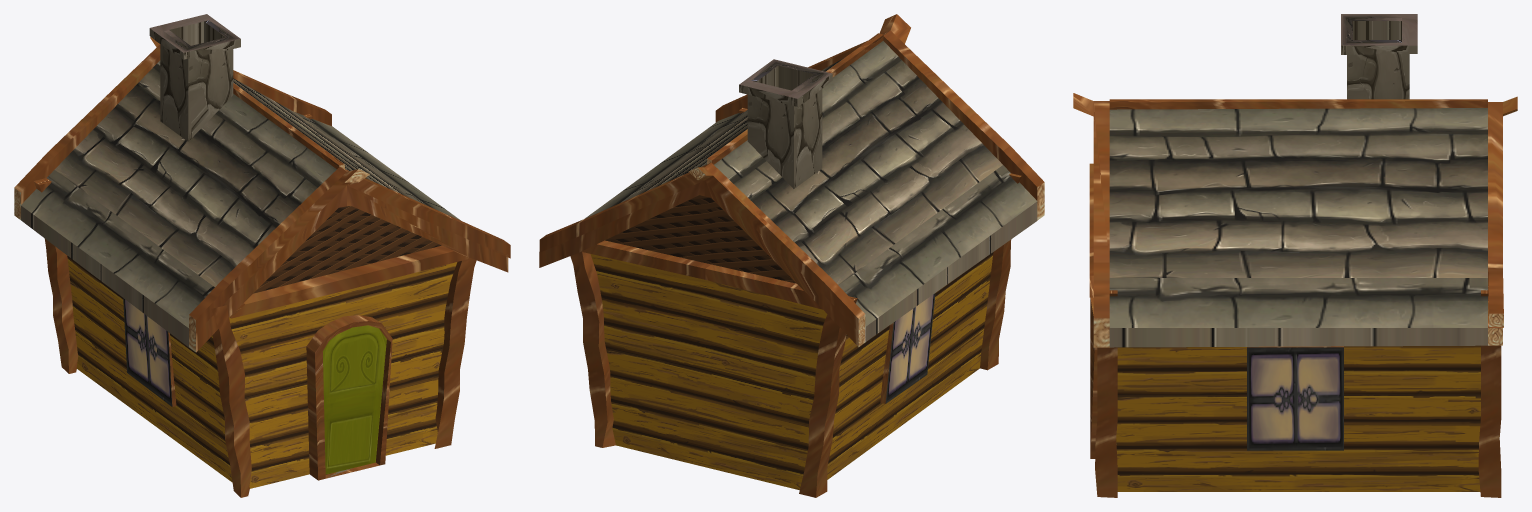
The model's file is house15.FBX.
3 views of the same model, side by side, from view 1: azimuth 30°, elevation 25°; view 2: azimuth 150°, elevation 25°; view 3: azimuth 270°, elevation 25° (orthographic). The views are drawn at different scales.
Visible parts, largest first — view 1: Box001; view 2: Box001; view 3: Box001.
Boxes of the visible parts, x1=… form: Box001: x1=14, y1=14, x2=510, y2=497; Box001: x1=539, y1=14, x2=1044, y2=497; Box001: x1=1073, y1=14, x2=1517, y2=497.
Bounding box in the file's own units: 60.06 × 64.16 × 65.32.
